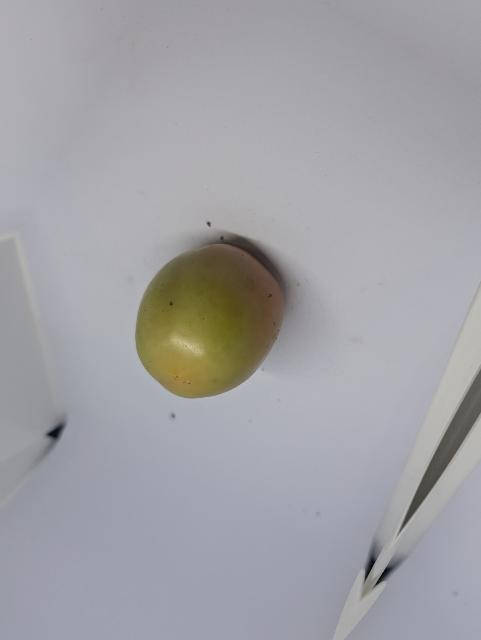breaker: (129, 246, 287, 403)
